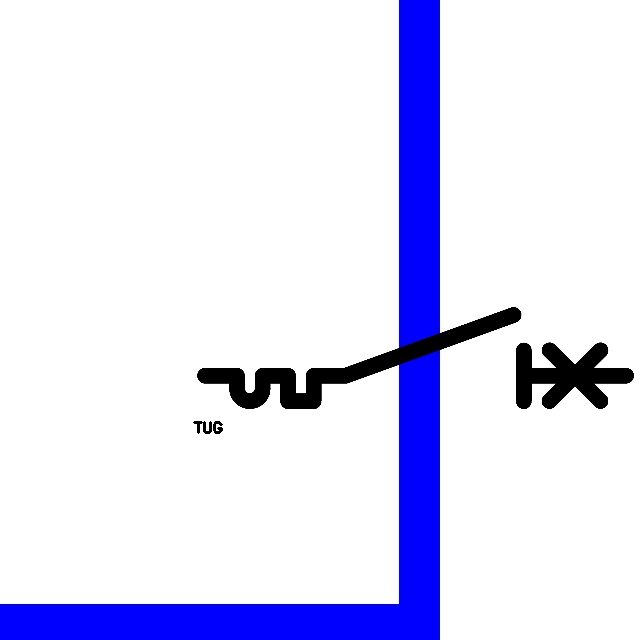interruptor_termomagnetico: (194, 304, 637, 412)
